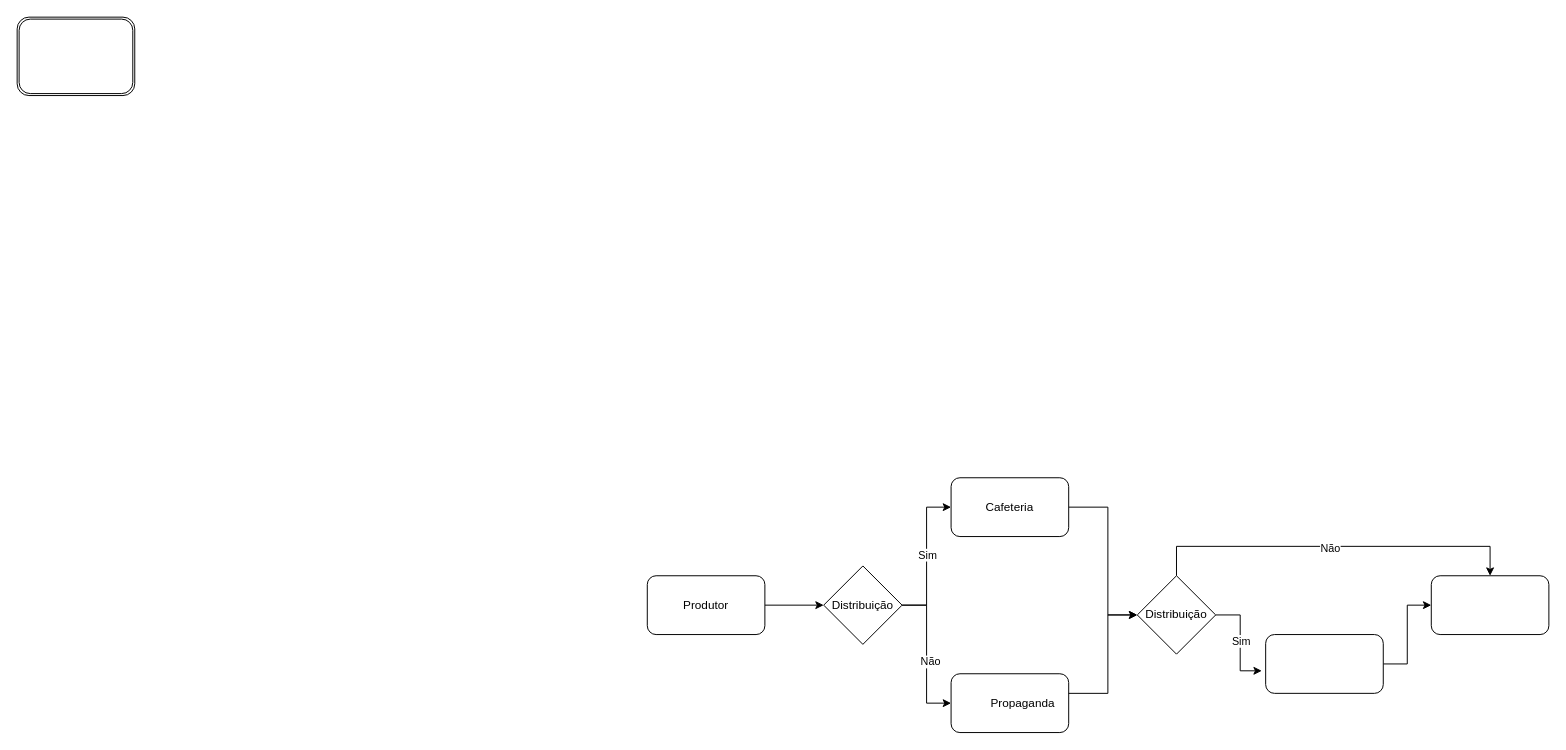
This 1566x750 diagram has some shape labels left out. Here are the shapes that lost their labels. From the top down, the centre of each, then its label:
At [1489,605]: "Cliente".
At [1324,663]: "Ponto de venda".
